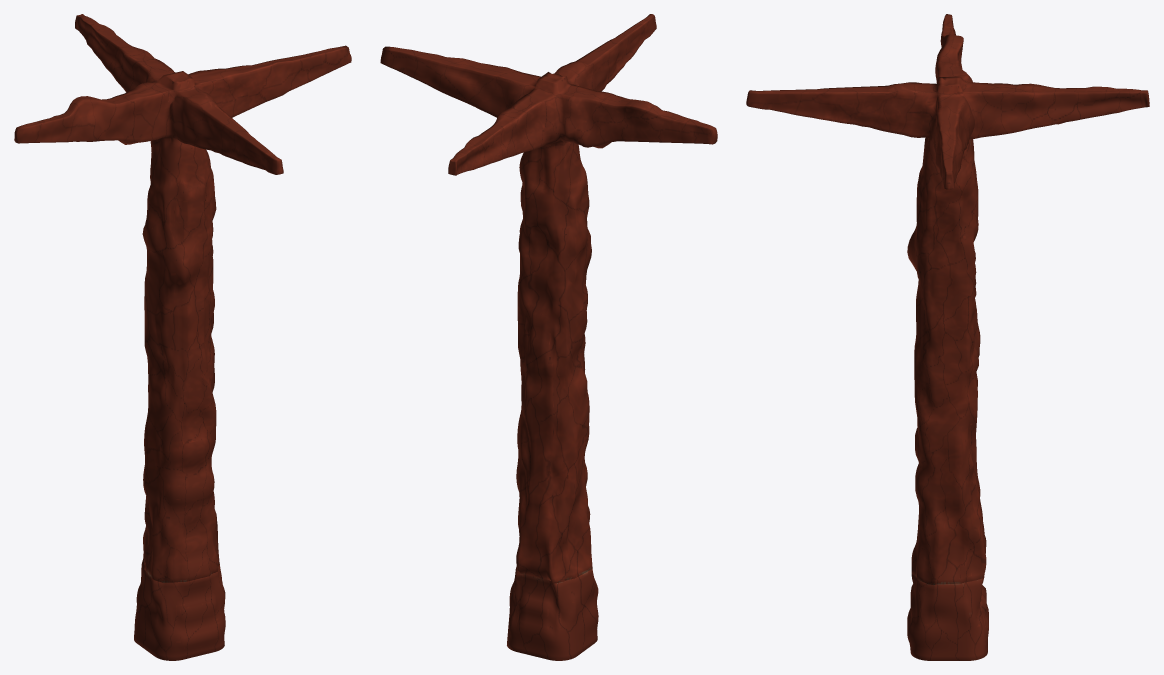
File: m_tree4.fbx
The picture shows the model from 3 angles, left to right: view 1: azimuth 30°, elevation 25°; view 2: azimuth 150°, elevation 25°; view 3: azimuth 270°, elevation 25°; orthographic projection.
Parts seen in each view (by area): view 1: TreeTrunk, Trunk; view 2: TreeTrunk, Trunk; view 3: TreeTrunk, Trunk.
Part boxes in pixels (bbox=[...]): TreeTrunk: bbox=[14, 14, 351, 582]; Trunk: bbox=[134, 559, 225, 660]; TreeTrunk: bbox=[380, 14, 717, 583]; Trunk: bbox=[507, 567, 598, 660]; TreeTrunk: bbox=[746, 14, 1149, 584]; Trunk: bbox=[907, 574, 988, 660].
Size of the model in its own units: 4.61 by 7.41 by 4.81.
